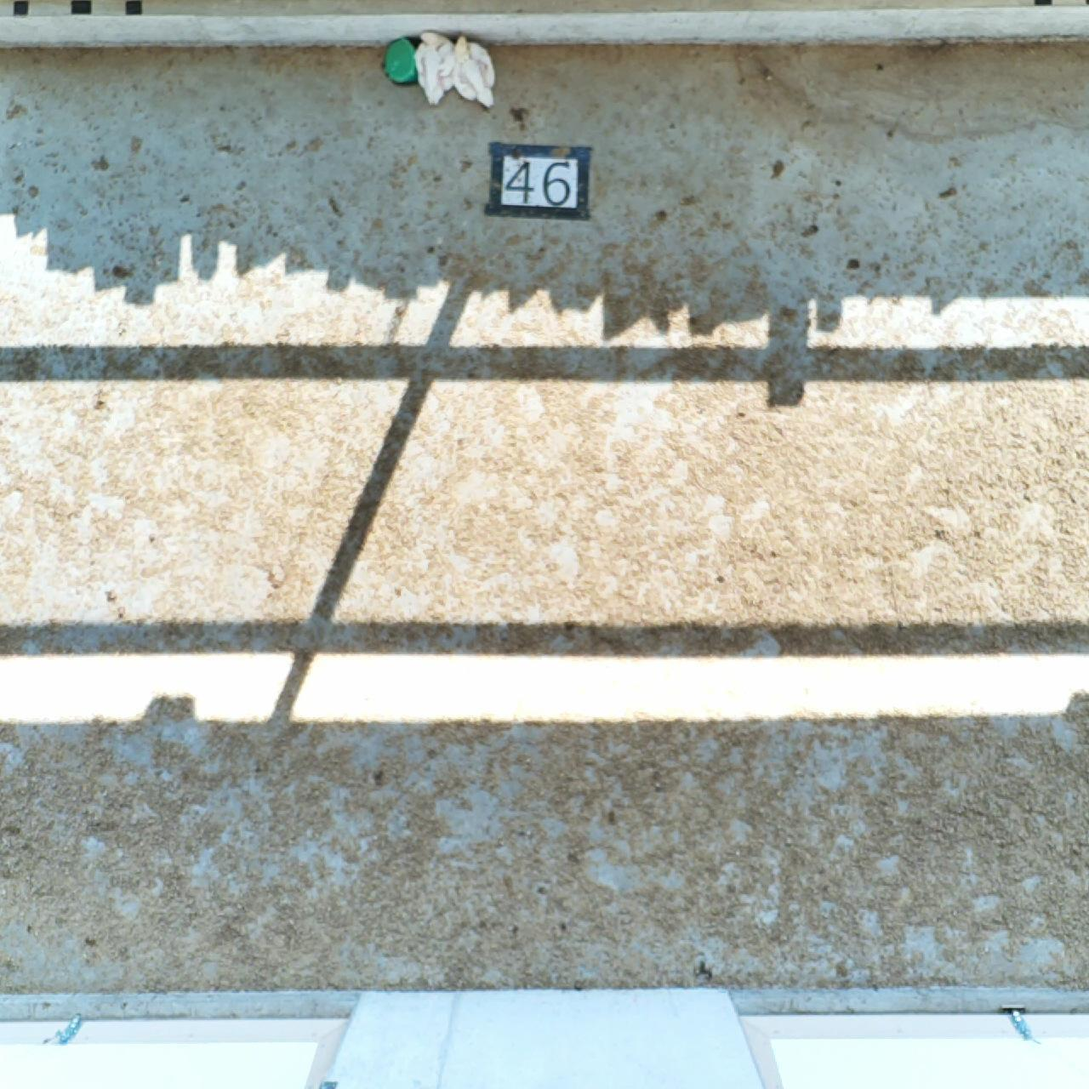chicken: (448, 37, 499, 102), (411, 23, 450, 101)
